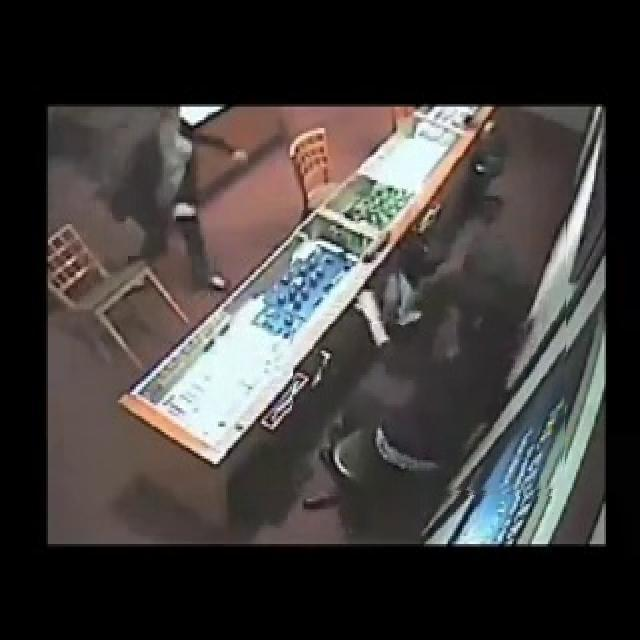Shoplifting: (293, 158, 567, 496)
